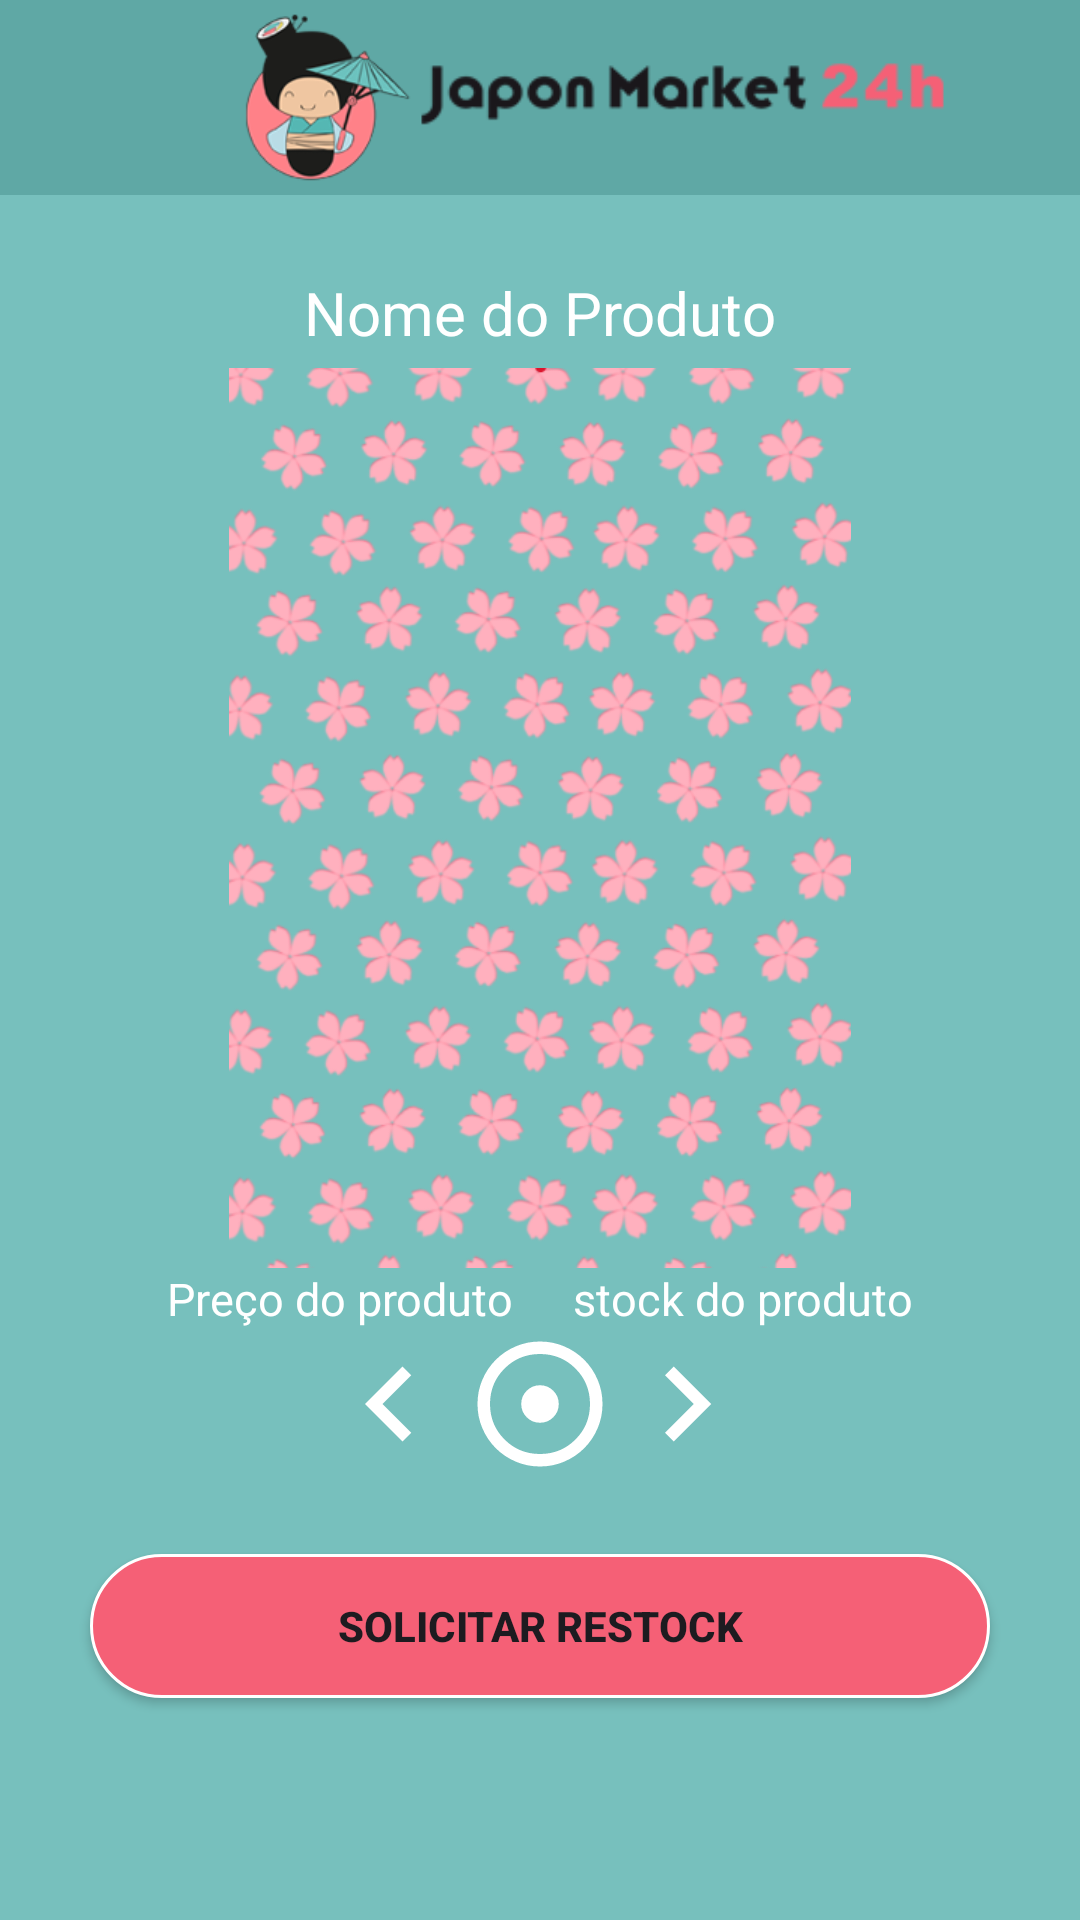

Locate icon controls on the screen. Image size 1080 × 1920, boxes as (x1, y1, x2, y2).
adjust: (477, 1341, 603, 1467)
chevron backward: (365, 1366, 411, 1442)
chevron forward: (665, 1366, 711, 1442)
